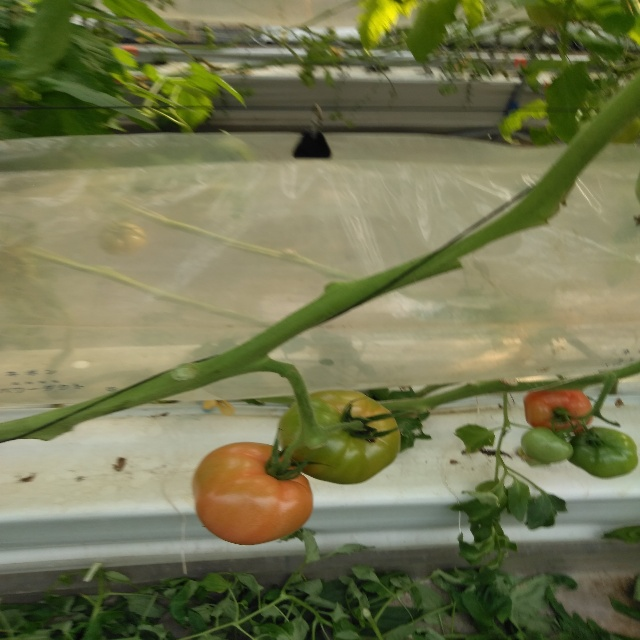b_green: (278, 389, 401, 485), (568, 426, 638, 479), (521, 427, 574, 463)
b_half_ripened: (191, 441, 314, 545), (522, 390, 593, 432)
